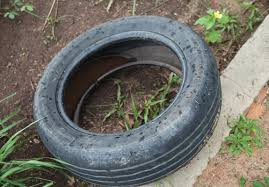tire: (32, 15, 221, 185)
